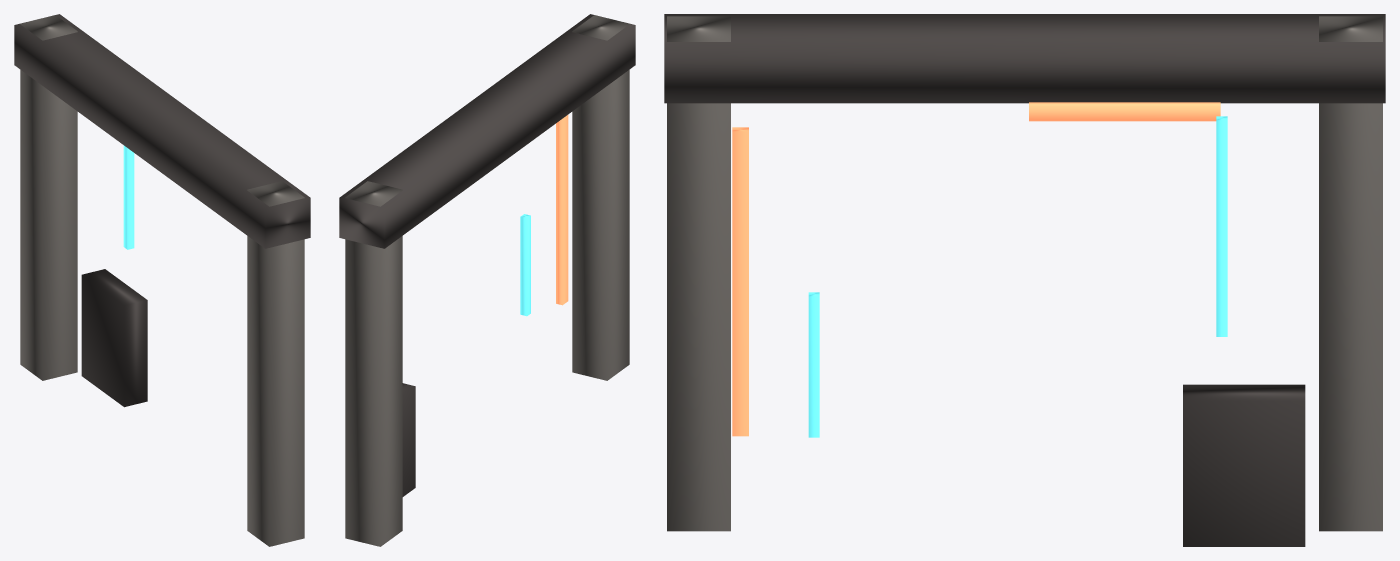
Rendered from damaged-vessel-breach-frame-lod1.glb.
3 views of the same model, side by side, from view 1: azimuth 30°, elevation 25°; view 2: azimuth 150°, elevation 25°; view 3: azimuth 270°, elevation 25° (orthographic). The views are drawn at different scales.
Visible parts, largest first — view 1: damaged-vessel-breach-frame-crown, damaged-vessel-breach-frame-right, damaged-vessel-breach-frame-left, damaged-vessel-breach-frame-jagged, damaged-vessel-breach-frame-cable-a; view 2: damaged-vessel-breach-frame-crown, damaged-vessel-breach-frame-left, damaged-vessel-breach-frame-right, damaged-vessel-breach-frame-warning, damaged-vessel-breach-frame-jagged, damaged-vessel-breach-frame-cable-b; view 3: damaged-vessel-breach-frame-crown, damaged-vessel-breach-frame-left, damaged-vessel-breach-frame-right, damaged-vessel-breach-frame-jagged, damaged-vessel-breach-frame-warning, damaged-vessel-breach-frame-scar-cap, damaged-vessel-breach-frame-cable-a, damaged-vessel-breach-frame-cable-b.
Part boxes in pixels (x1,y1,x2,y2): damaged-vessel-breach-frame-crown: (14,14,310,248); damaged-vessel-breach-frame-right: (247,181,304,546); damaged-vessel-breach-frame-left: (20,15,77,380); damaged-vessel-breach-frame-jagged: (81,269,147,407); damaged-vessel-breach-frame-cable-a: (123,145,134,249); damaged-vessel-breach-frame-crown: (339,14,635,248); damaged-vessel-breach-frame-left: (345,181,402,546); damaged-vessel-breach-frame-right: (572,15,629,380); damaged-vessel-breach-frame-warning: (556,115,568,305); damaged-vessel-breach-frame-jagged: (402,383,415,496); damaged-vessel-breach-frame-cable-b: (520,214,530,316); damaged-vessel-breach-frame-crown: (664,14,1385,103); damaged-vessel-breach-frame-left: (1319,16,1382,531); damaged-vessel-breach-frame-right: (667,16,730,531); damaged-vessel-breach-frame-jagged: (1183,384,1305,546); damaged-vessel-breach-frame-warning: (732,127,748,436); damaged-vessel-breach-frame-scar-cap: (1029,102,1220,121); damaged-vessel-breach-frame-cable-a: (1216,116,1227,336); damaged-vessel-breach-frame-cable-b: (808,292,819,437).
Size of the model in its own units: 0.75 by 3.9 by 5.2.
